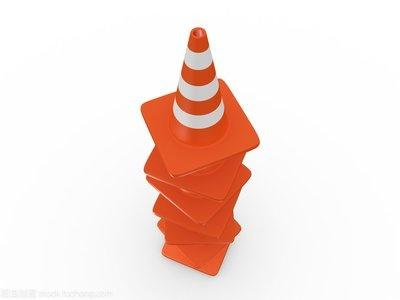cone_barrel: (160, 24, 234, 150)
